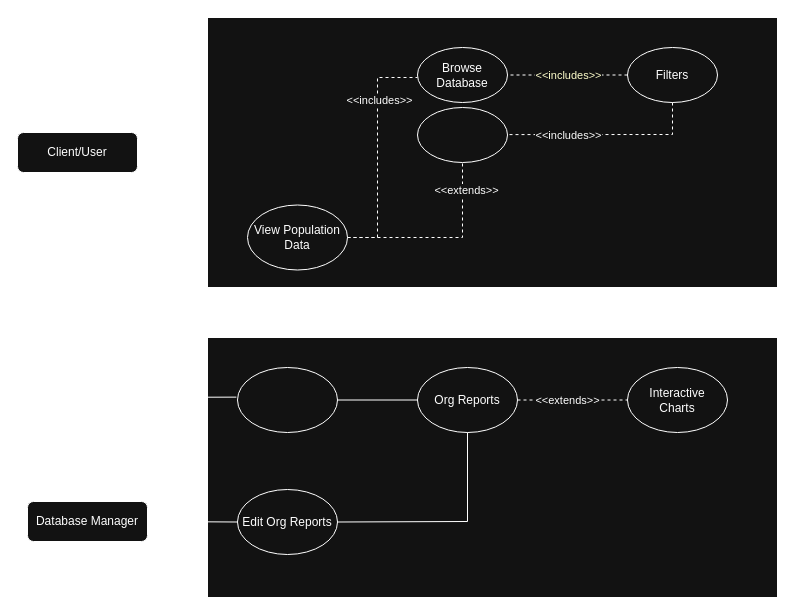
The diagram is 795 pixels wide and 615 high, and some of its shapes have lost their labels. Here are the shapes that lost their labels. From the top down, the box of each, then its label:
(416, 106, 508, 162): Search Database
(206, 16, 778, 288): Population Data Sys.
(236, 366, 338, 432): View Org Reports
(206, 336, 778, 598): Curated Reports
